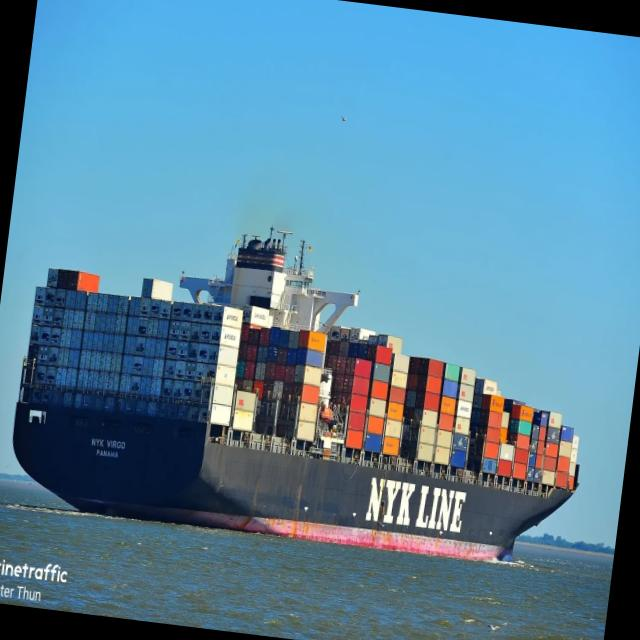Cargo: (13, 227, 578, 558)
